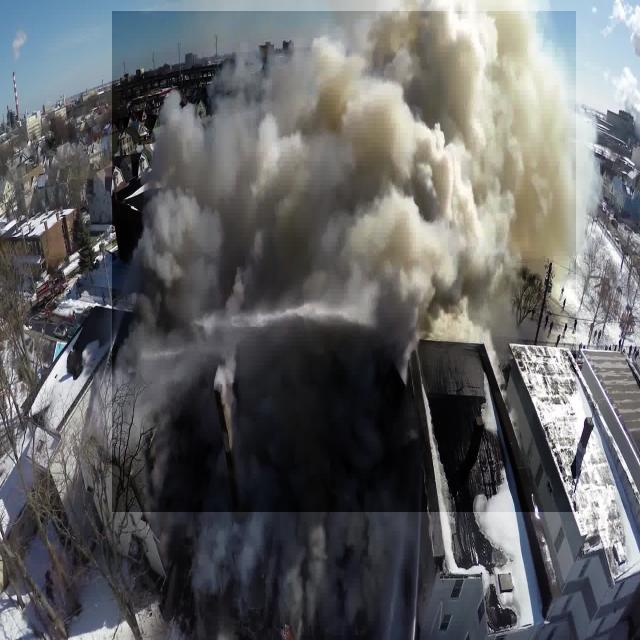Smoke: (112, 11, 576, 512)
